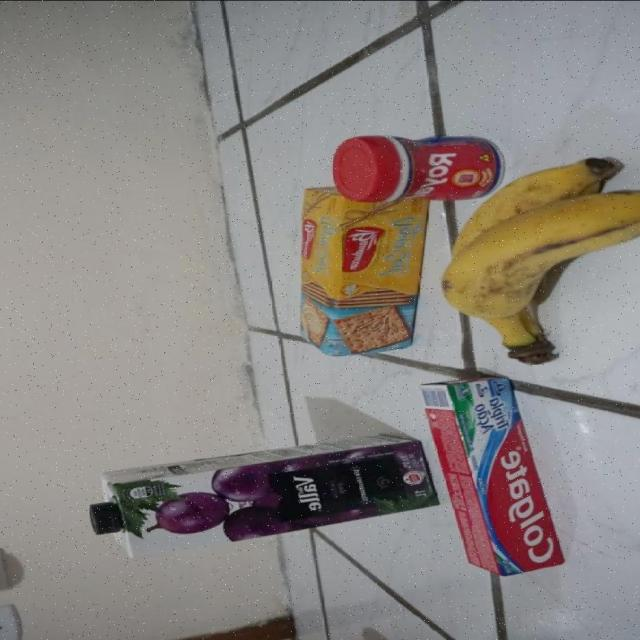Banana: (426, 202, 640, 378)
Cracker: (302, 201, 423, 355)
Toothpaste: (419, 382, 571, 581)
Yeast: (332, 134, 498, 201)
